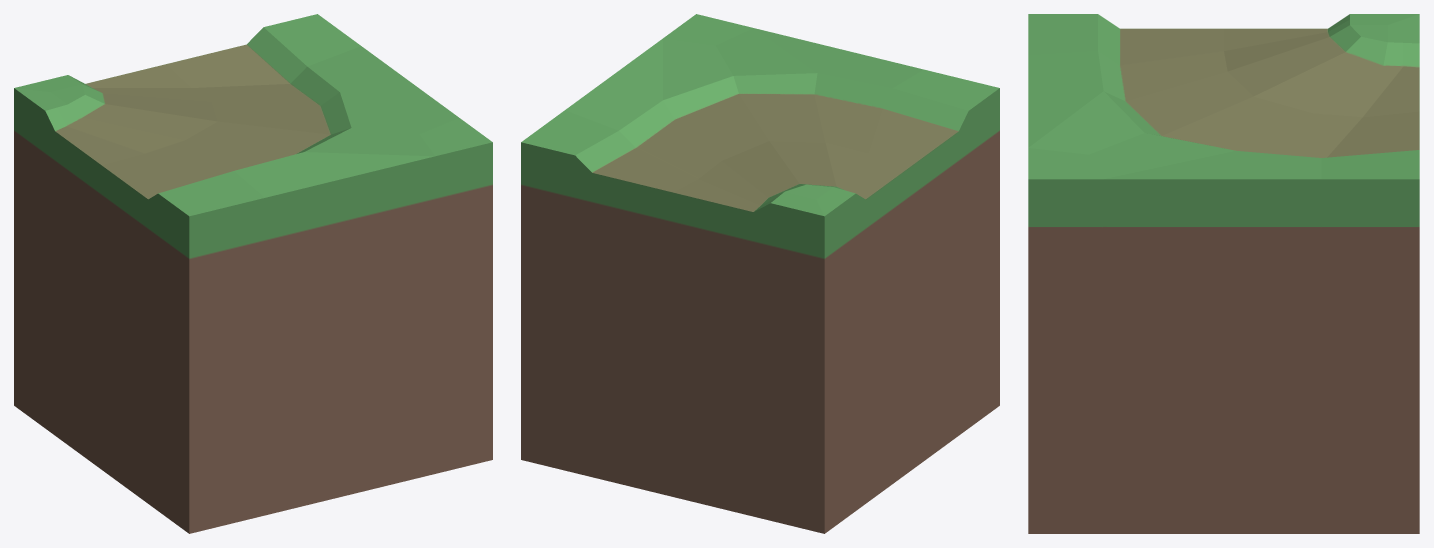
File: 08 Path Turn.fbx
3 views of the same model, side by side, from view 1: azimuth 30°, elevation 25°; view 2: azimuth 150°, elevation 25°; view 3: azimuth 270°, elevation 25° (orthographic). The views are drawn at different scales.
Parts seen in each view (by area): view 1: 08 Path Turn; view 2: 08 Path Turn; view 3: 08 Path Turn.
Part boxes in pixels (x1,y1,x2,y2): 08 Path Turn: [14, 14, 492, 533]; 08 Path Turn: [521, 14, 999, 533]; 08 Path Turn: [1028, 14, 1419, 533].
Bounding box in the file's own units: 100 × 101 × 100.
1 material, 1 textured.
